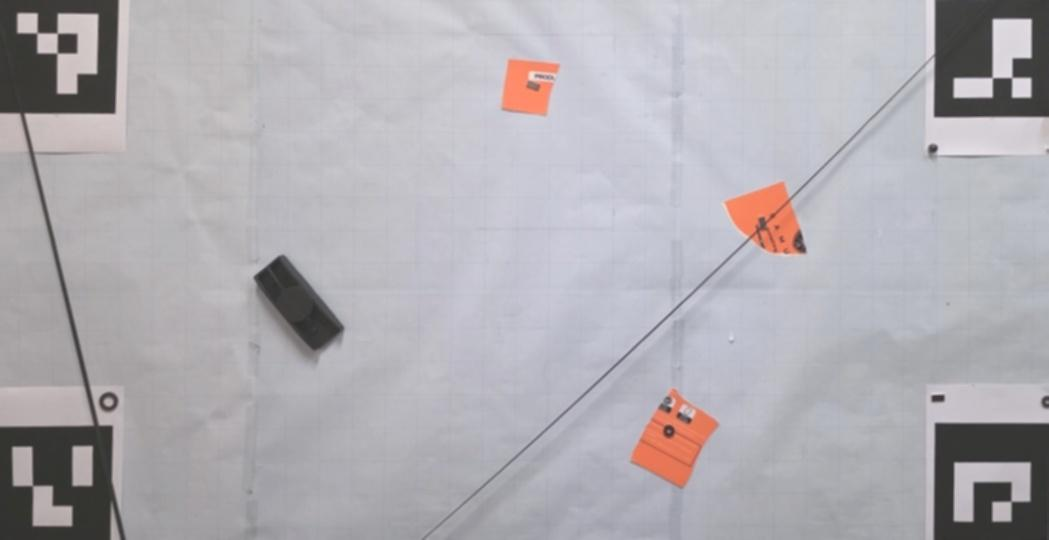obstacle: (254, 254, 344, 352), (631, 389, 719, 488), (725, 181, 805, 257), (502, 58, 560, 116)
